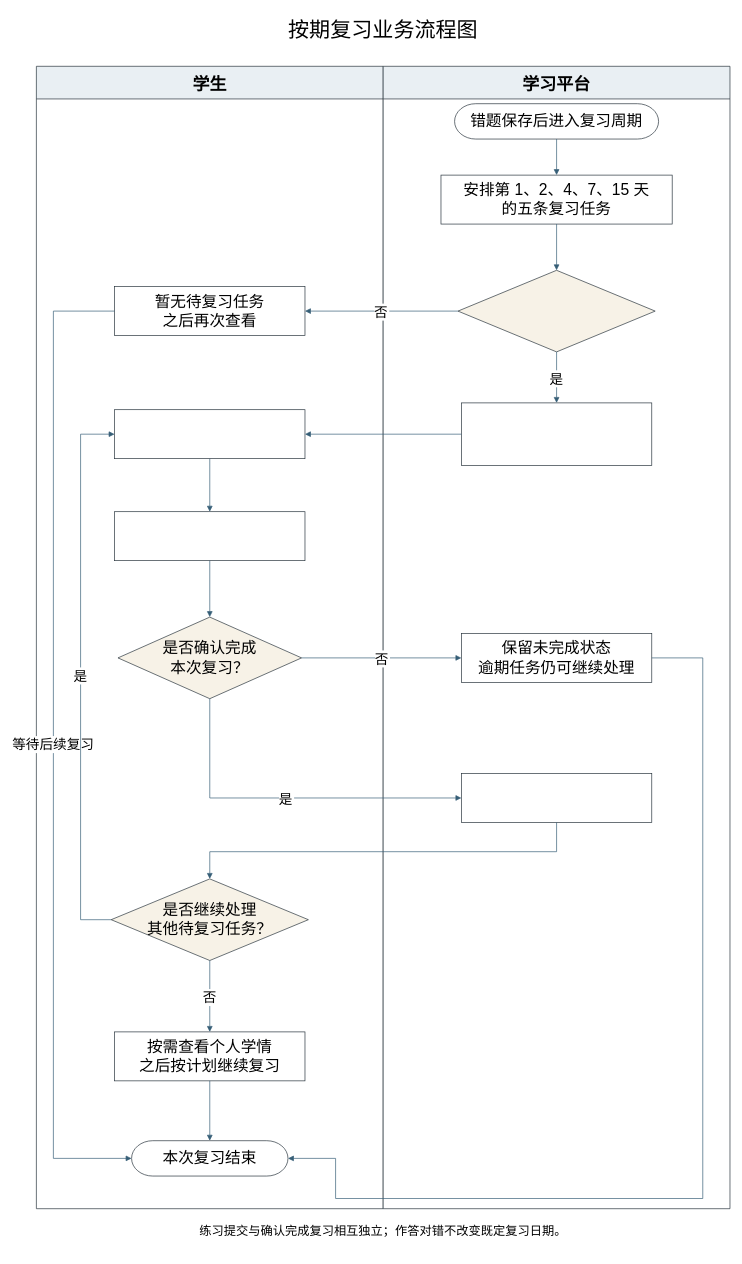
Some shapes in this 742 by 1264 pixel diagram are drawn without their labels. Here are the shapes that lost their labels. From the top down, the centre of each, then its label:
At [556,311]: "是否有到期或逾期 未完成任务？".
At [209,434]: "查看任务并选择错题".
At [556,433]: "展示待复习任务 针对当天到期任务 发送站内提醒".
At [209,536]: "重看原题、答案与解析 按需要进行练习".
At [556,797]: "记录该条复习任务已完成".
